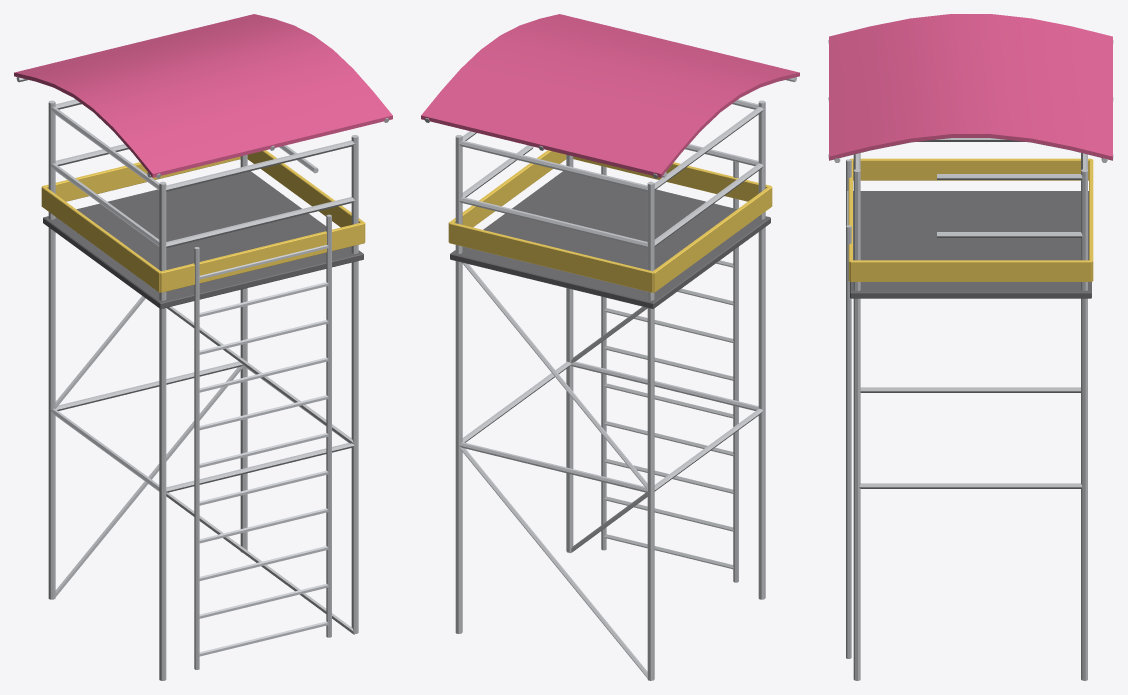
File: live-music-venue-and-festival-stage-security-tower-06d01ac0__33928.glb
3 views of the same model, side by side, from view 1: azimuth 30°, elevation 25°; view 2: azimuth 150°, elevation 25°; view 3: azimuth 270°, elevation 25° (orthographic). The views are drawn at different scales.
Visible parts, largest first — view 1: security-tower; view 2: security-tower; view 3: security-tower.
Boxes of the visible parts, x1=… form: security-tower: x1=14, y1=14, x2=392, y2=680; security-tower: x1=421, y1=14, x2=799, y2=680; security-tower: x1=828, y1=14, x2=1113, y2=680.
Bounding box in the file's own units: 2 × 4.34 × 2.01.
